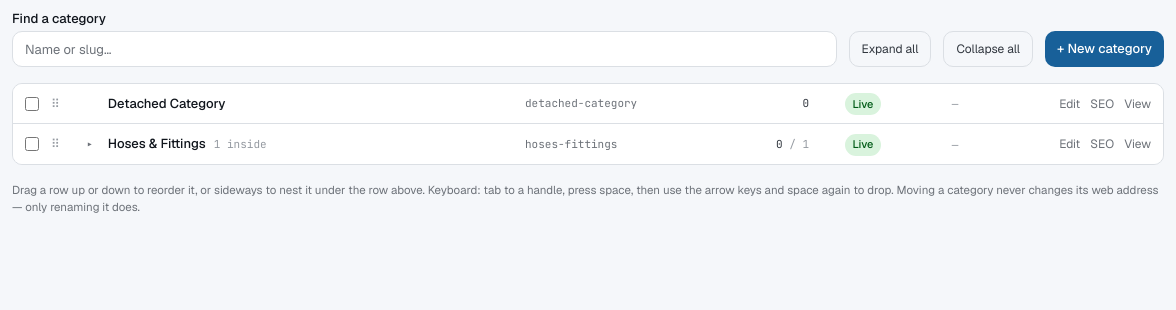
admin category tree › expanding a root reveals its children
Click the button named "Expand Hoses & Fittings": (90, 144) [80,134,100,154]
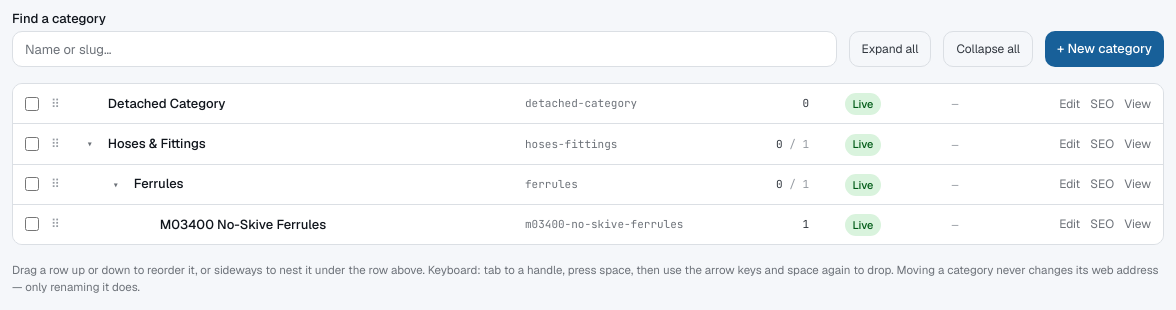
Check: the text "Ferrules" is shown, box [134,175,184,192]
